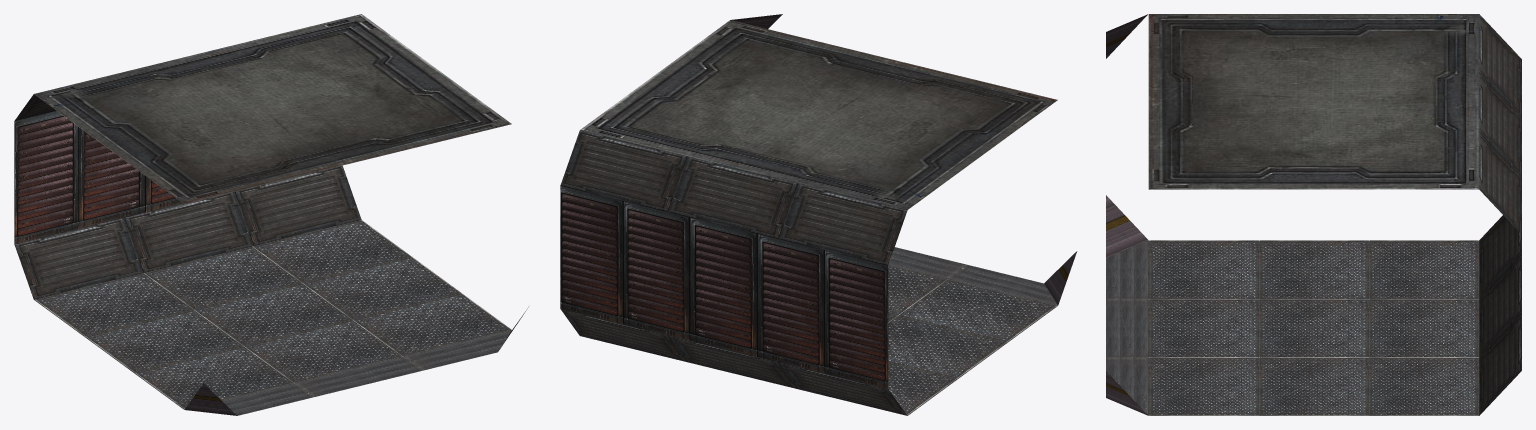
The model's file is Hallway3Way.fbx.
The picture shows the model from 3 angles, left to right: view 1: azimuth 30°, elevation 25°; view 2: azimuth 150°, elevation 25°; view 3: azimuth 270°, elevation 25°; orthographic projection. The views are drawn at different scales.
Parts seen in each view (by area): view 1: pCube30; view 2: pCube30; view 3: pCube30.
Boxes of the visible parts, <box> form: pCube30: <box>14,14,528,415</box>; pCube30: <box>560,14,1077,415</box>; pCube30: <box>1106,14,1521,415</box>.
Bounding box in the file's own units: 10 × 6 × 10.
